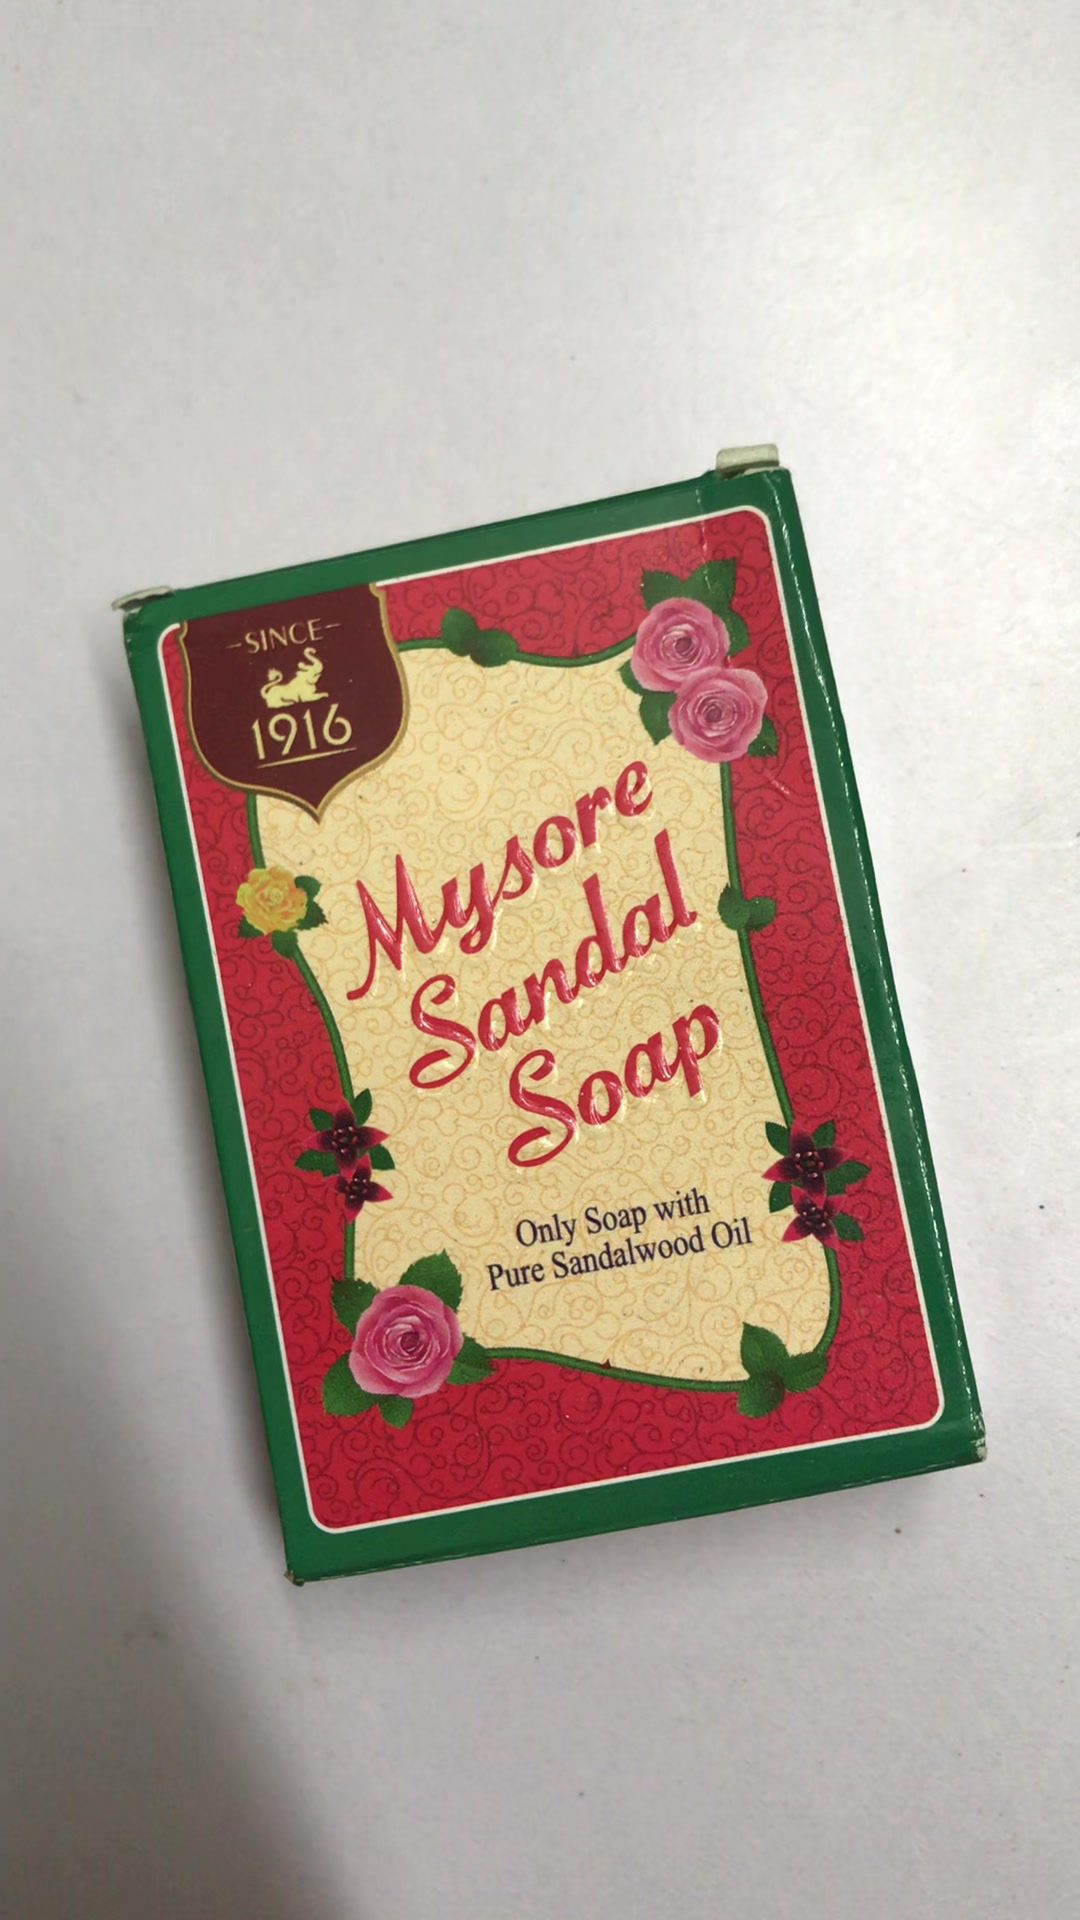mysore sandal soap: (120, 465, 993, 1586)
